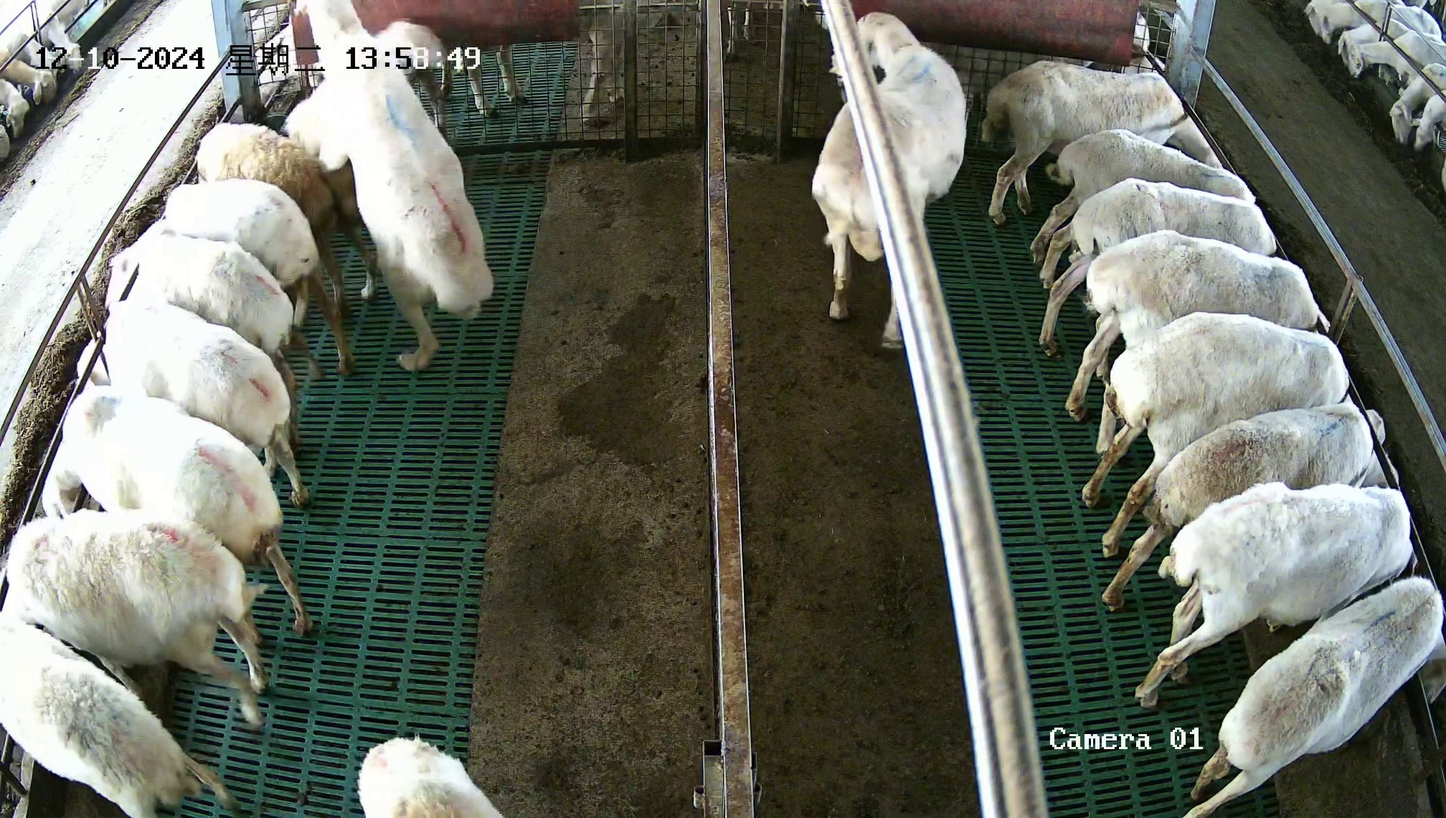Nmounting: (292, 1, 495, 370)
